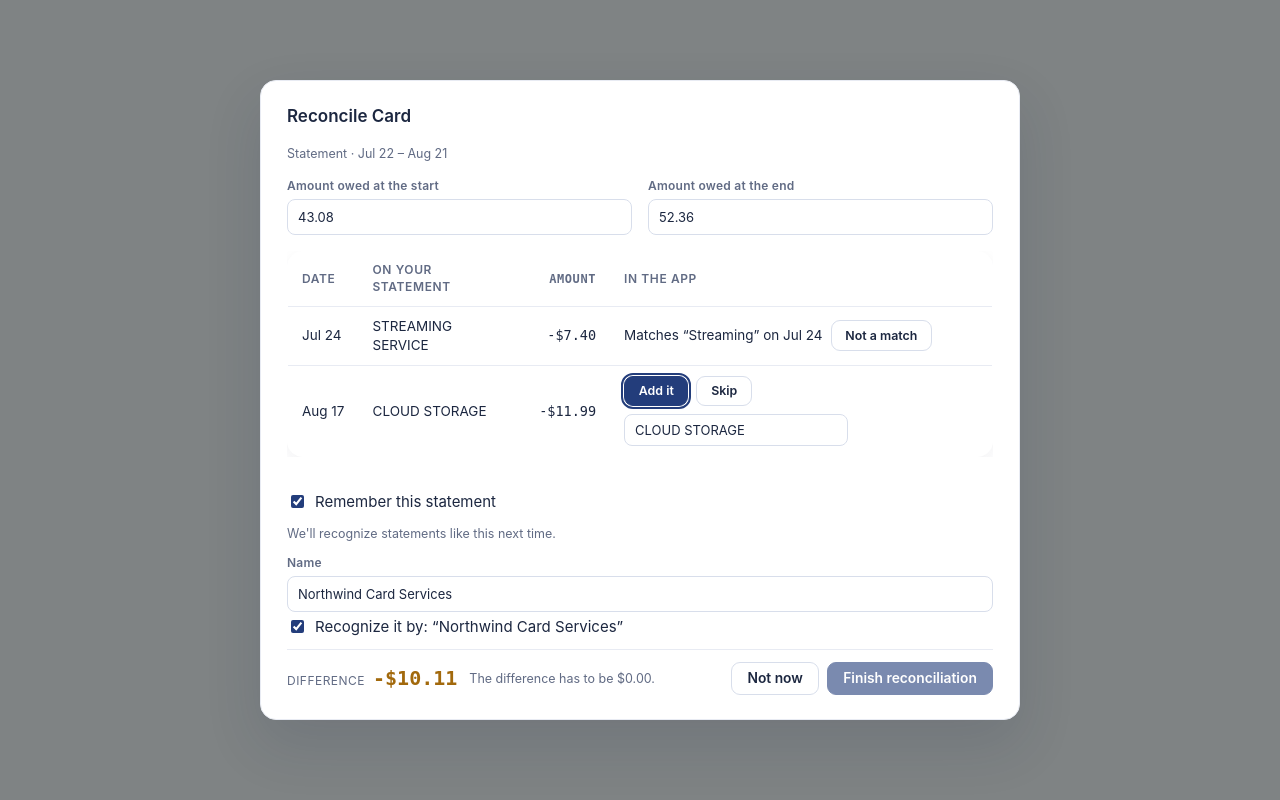
Test: StatementReviewDialog › lists only transactions dated inside the statement's dates as not on the statement
Click the button "Not a match": [881, 336] box left=831, top=320, right=932, bottom=351
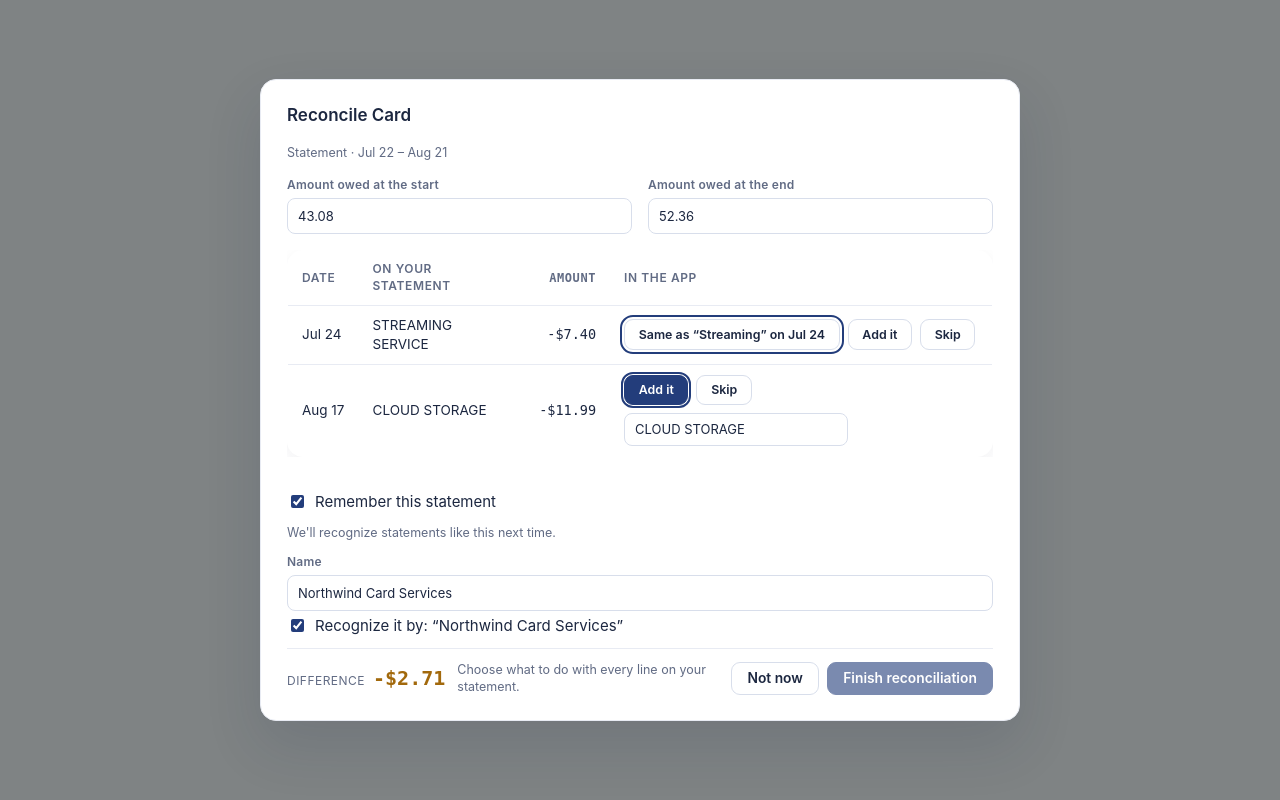
Expected: the button "Skip" in the row of "STREAMING SERVICE" is shown
Click the button "Skip" in the row of "STREAMING SERVICE": [948, 335] box left=920, top=319, right=975, bottom=350
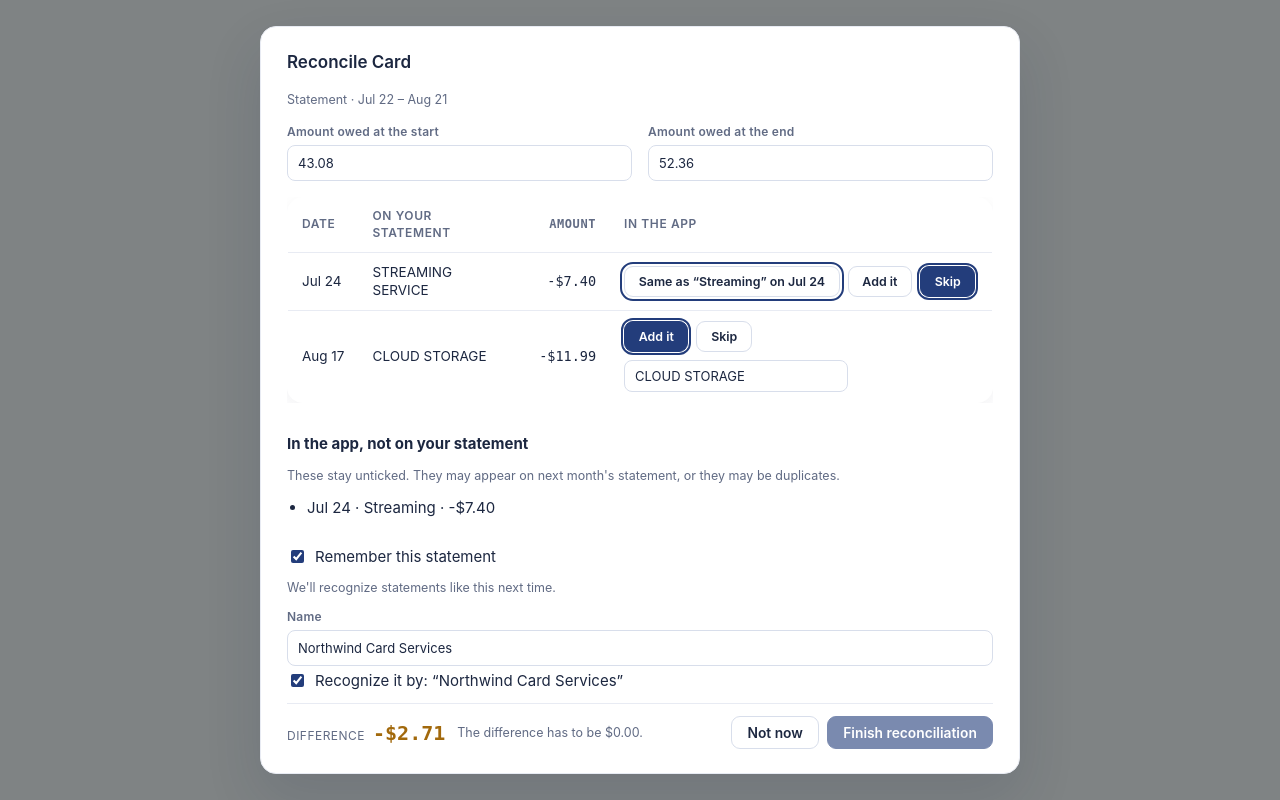
Expected: the element that starts with "In the app, not on your statement" shows "Streaming", left=364, top=498, right=436, bottom=517
